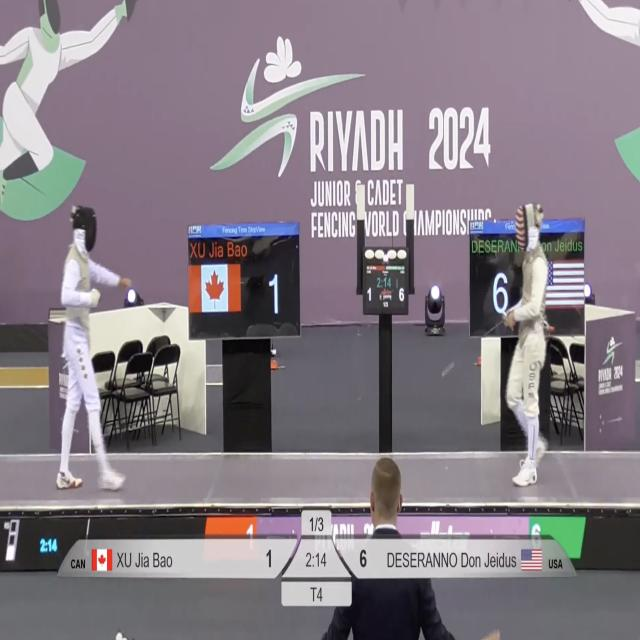fencer: (52, 198, 133, 496), (493, 194, 551, 499)
overlayLeft: (55, 535, 255, 582)
overlayRight: (380, 540, 582, 578)
scoreLeft: (258, 538, 298, 577)
scoreRight: (331, 542, 378, 579)
